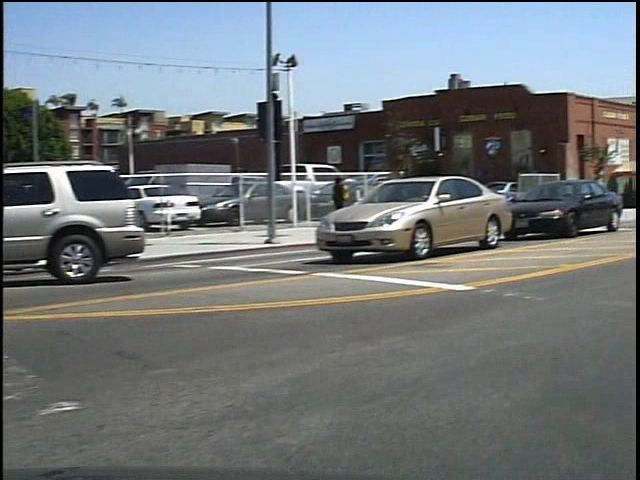person: (338, 170, 364, 230)
